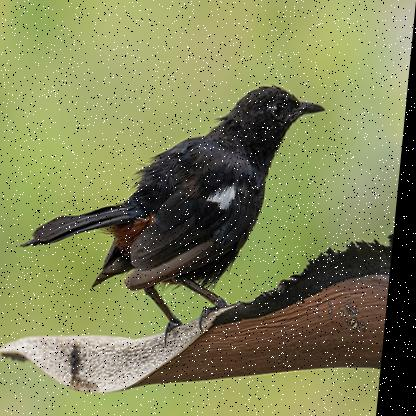Burung: (18, 86, 329, 345)
